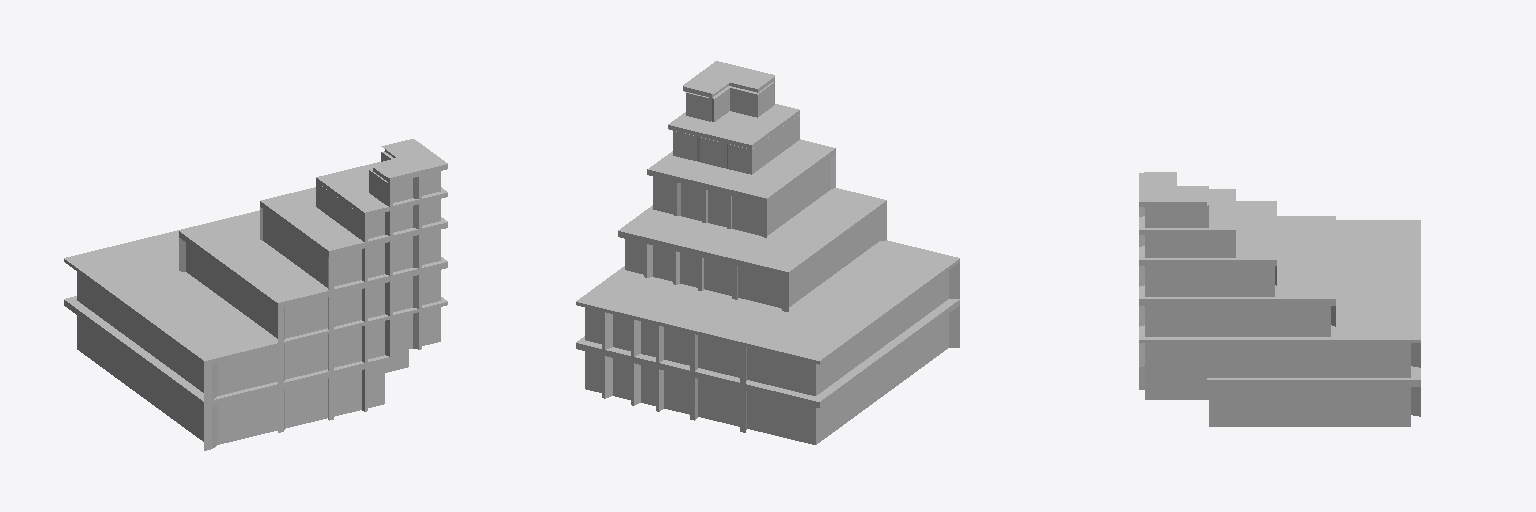
Rendered from Praca4.obj.
The picture shows the model from 3 angles: view 1: azimuth 30°, elevation 25°; view 2: azimuth 150°, elevation 25°; view 3: azimuth 270°, elevation 25°; orthographic projection.
Visible parts, largest first — view 1: Cube.005_Cube.020; view 2: Cube.005_Cube.020; view 3: Cube.005_Cube.020.
Part boxes in pixels (bbox=[...]): Cube.005_Cube.020: bbox=[64, 139, 447, 450]; Cube.005_Cube.020: bbox=[576, 61, 959, 444]; Cube.005_Cube.020: bbox=[1139, 172, 1420, 426].
Size of the model in its own units: 10.21 by 9.1 by 10.21.